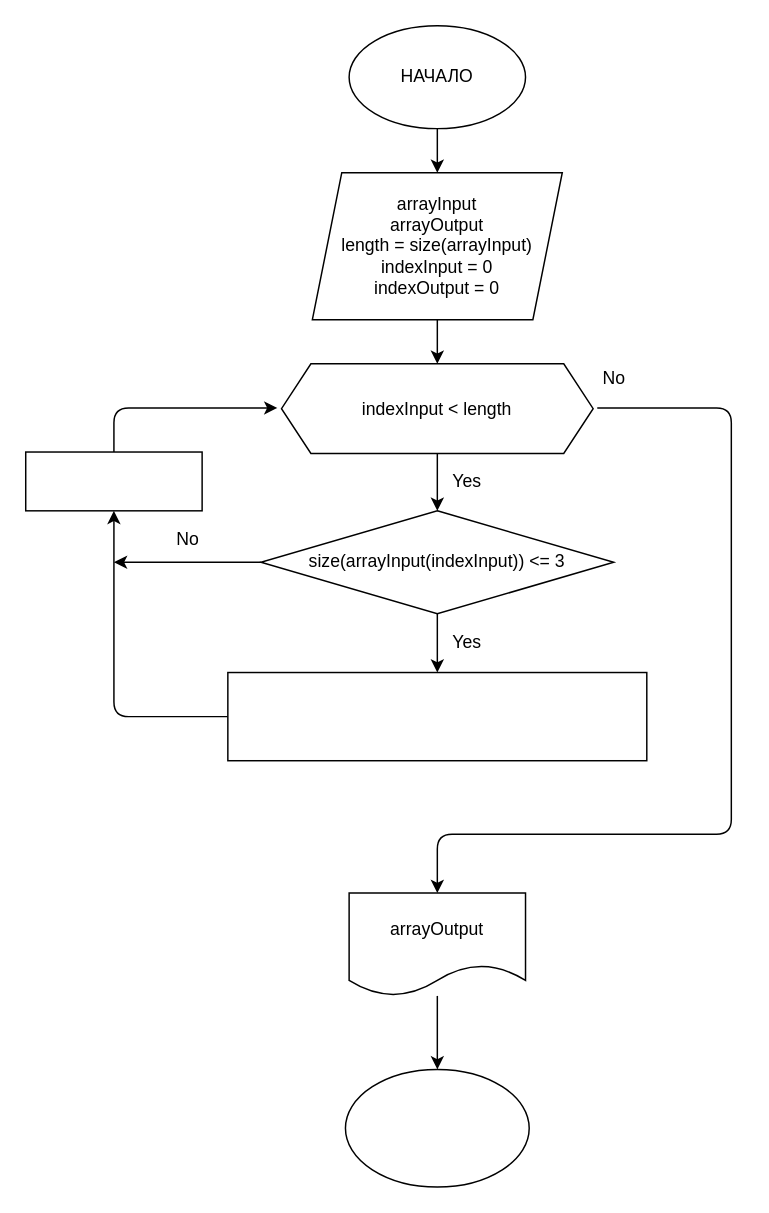
Image size: 769x1213. Some labels were removed from this diagram. Here are the shapes that lost their labels. From the top down, the centre of each, then its label:
At point 113,481: "indexInput += 1".
At point 436,716: "arrayOutput(indexOutput) = arrayInput(indexInput) indexOutput += 1".
At point 436,1127: "КОНЕЦ".
